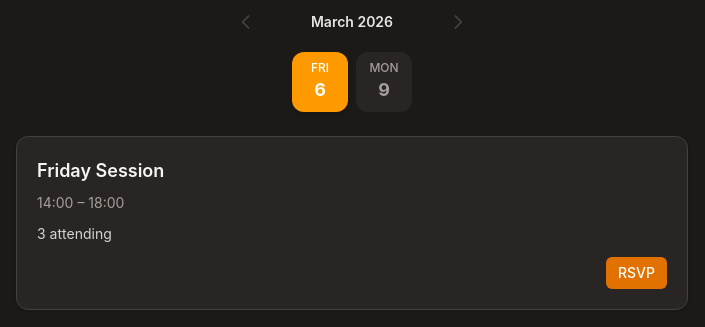
Scenario: SessionsPage › filters sessions by selected date
Expected: the link "Friday Session" is shown, [37,157,164,185]
Note: Click the second date tab (March 9)
Click the tab "Mon 9" at (384,82), box [356,52,412,112]
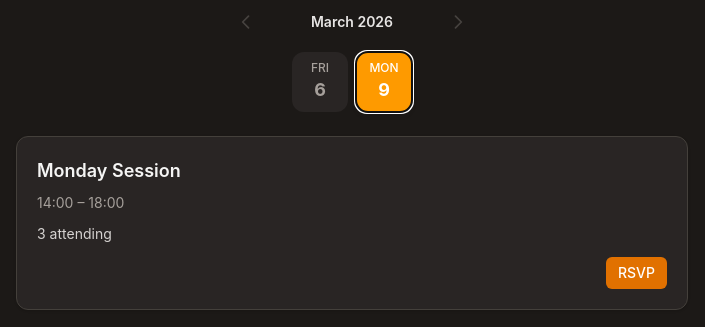
Expected: the link "Monday Session" is shown, [37,157,181,185]
Expected: the link "Friday Session" is gone
